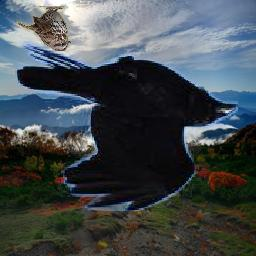Crow: (16, 41, 239, 211)
Sparrow: (17, 7, 72, 52)
